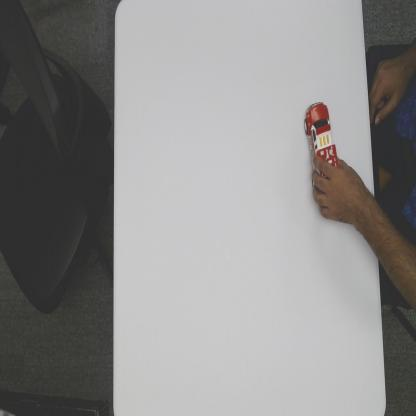Firetruck: (302, 95, 336, 165)
Hand: (310, 150, 366, 227)
